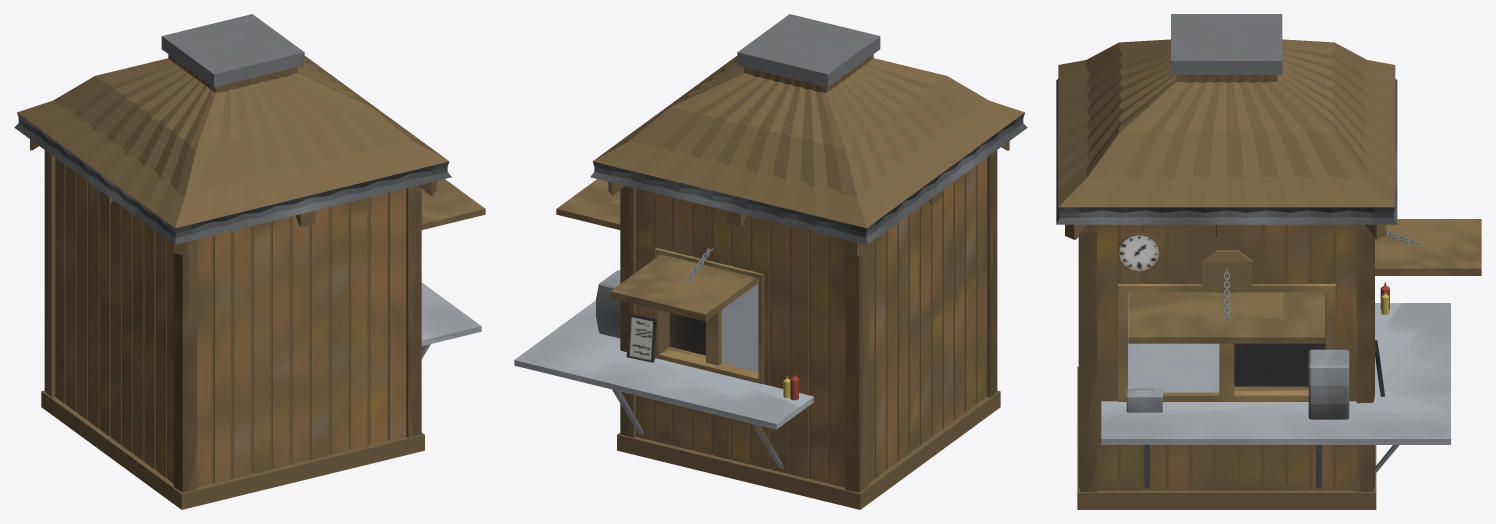
The model's file is Concessions.fbx.
3 renders of one model, left to right at view 1: azimuth 30°, elevation 25°; view 2: azimuth 150°, elevation 25°; view 3: azimuth 270°, elevation 25°, orthographic. The views are drawn at different scales.
Visible parts, largest first — view 1: Cube; view 2: Cube; view 3: Cube.
Part boxes in pixels (x1,y1,x2,y2): Cube: (14,14,485,509); Cube: (514,14,1027,509); Cube: (1056,14,1481,509).
Bounding box in the file's own units: 5.33 × 5.31 × 5.66.
